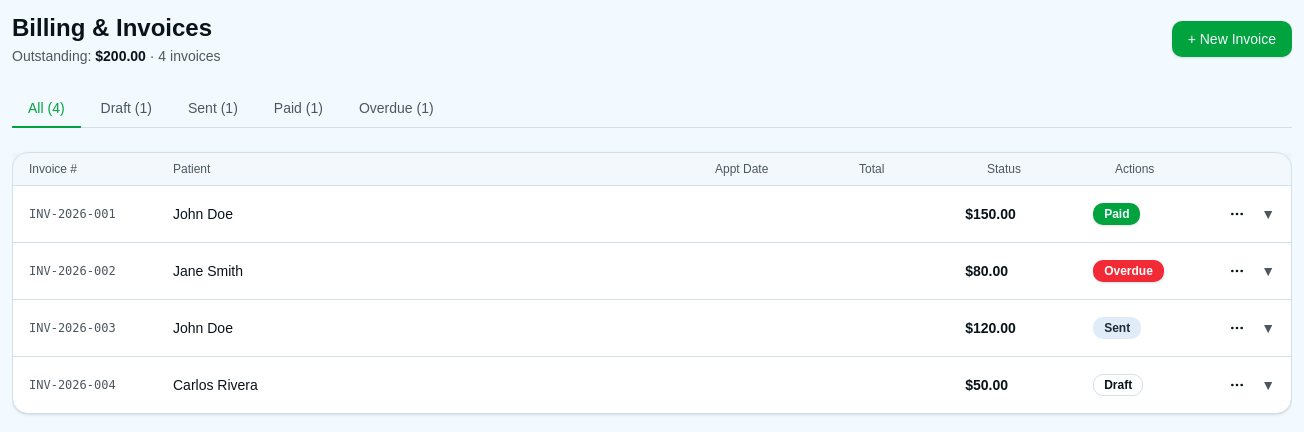
Test: InvoicesPage (CC-90) › Filtering by draft tab shows only draft invoices
Expected: the text "INV-2026-001" is shown, left=29, top=207, right=116, bottom=221
Click the button "draft (1)".
click(126, 109)  # box left=85, top=90, right=168, bottom=128
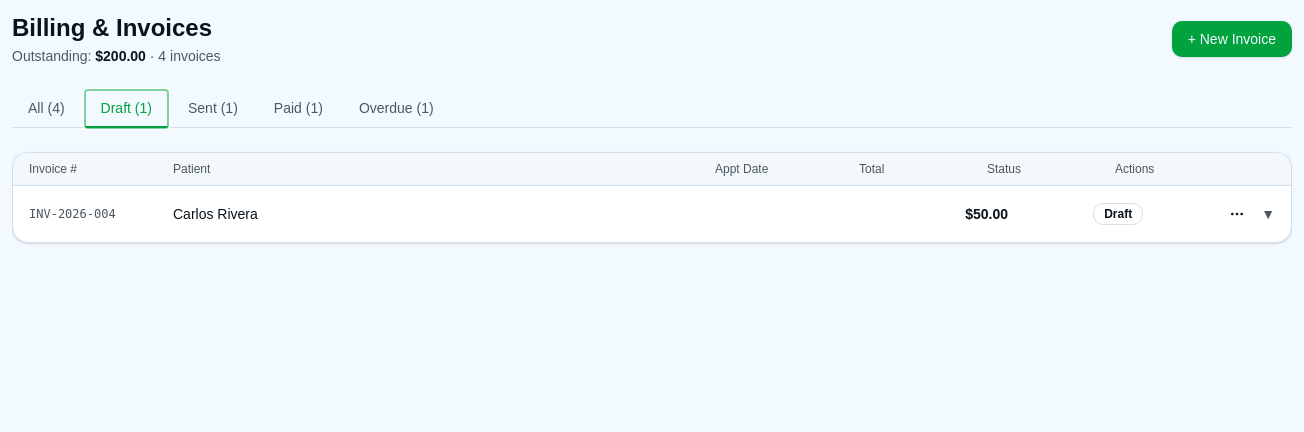
Expected: the text "INV-2026-004" is shown, left=29, top=207, right=116, bottom=221
Result: the button "INV-2026-001" is gone
